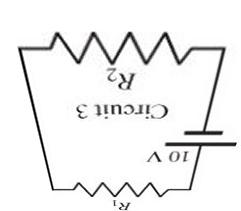resistor: (42, 23, 187, 64), (65, 172, 174, 197)
